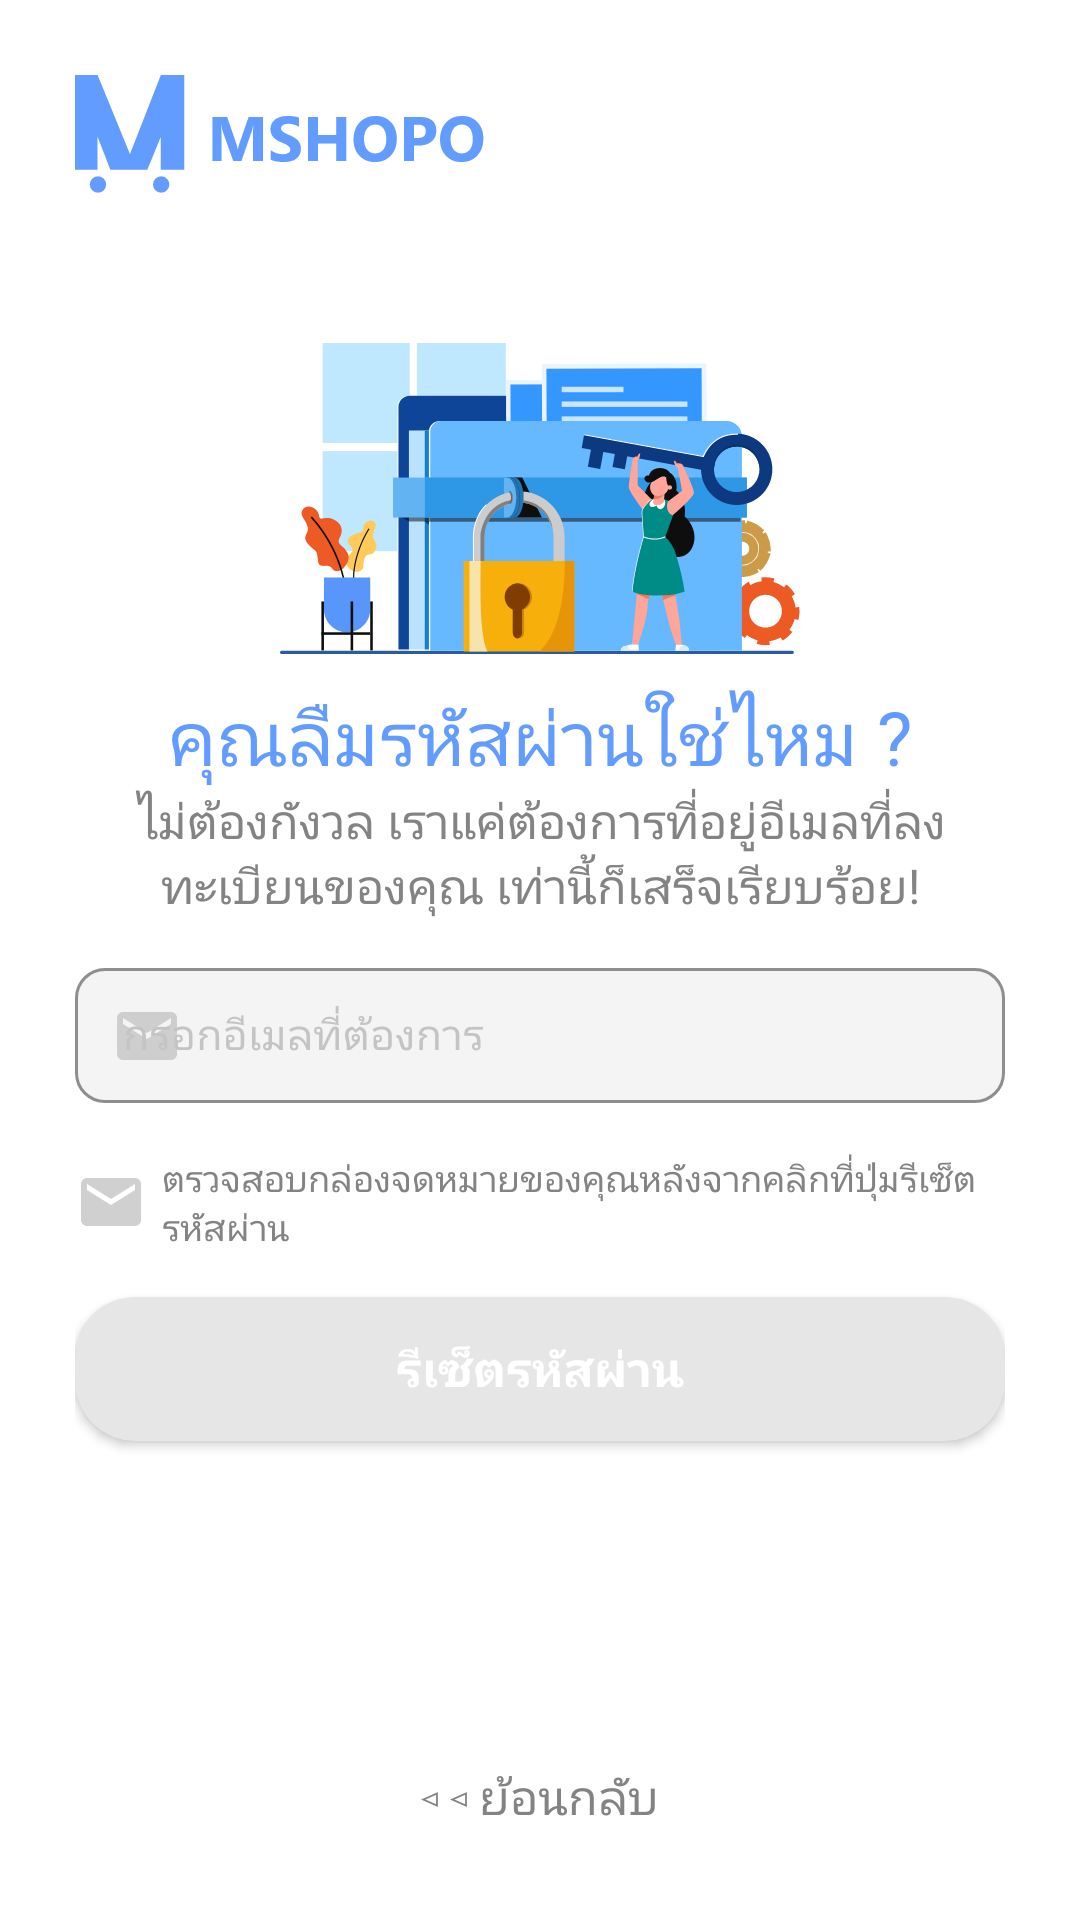

Icons on this 1080w x 1920h Android screen, each with the point to tap as (x,y):
email: (111,1202)
